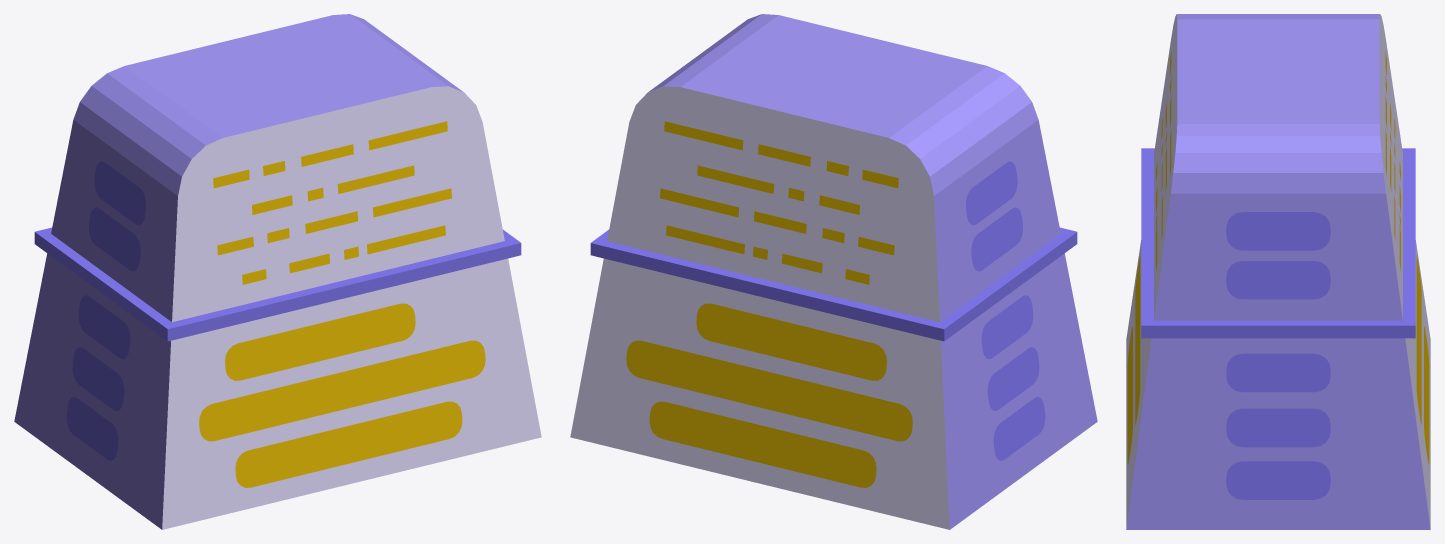
The model's file is Building_029.fbx.
3 views of the same model, side by side, from view 1: azimuth 30°, elevation 25°; view 2: azimuth 150°, elevation 25°; view 3: azimuth 270°, elevation 25° (orthographic). The views are drawn at different scales.
Parts seen in each view (by area): view 1: Building_029; view 2: Building_029; view 3: Building_029.
Boxes of the visible parts, x1,y1,x2,y2 form: Building_029: (14, 14, 541, 529); Building_029: (570, 14, 1097, 529); Building_029: (1126, 14, 1430, 529).
Bounding box in the file's own units: 30.74 × 27.32 × 20.75.
